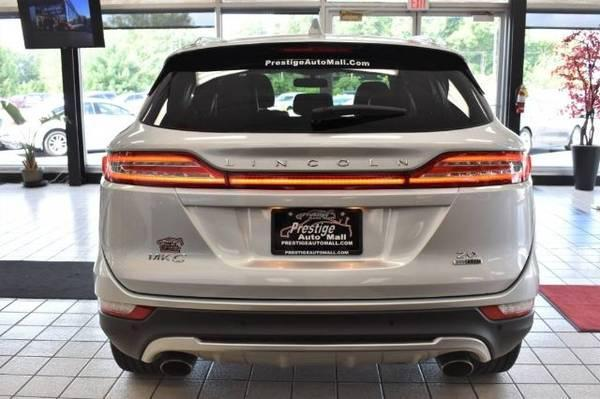Left_Taillight: (103, 150, 229, 190)
Rear_Bumper: (94, 241, 538, 363)
Rear_Windshield: (136, 41, 492, 139)
Right_Taillight: (412, 152, 530, 192)
Tailgate: (100, 121, 536, 302)
